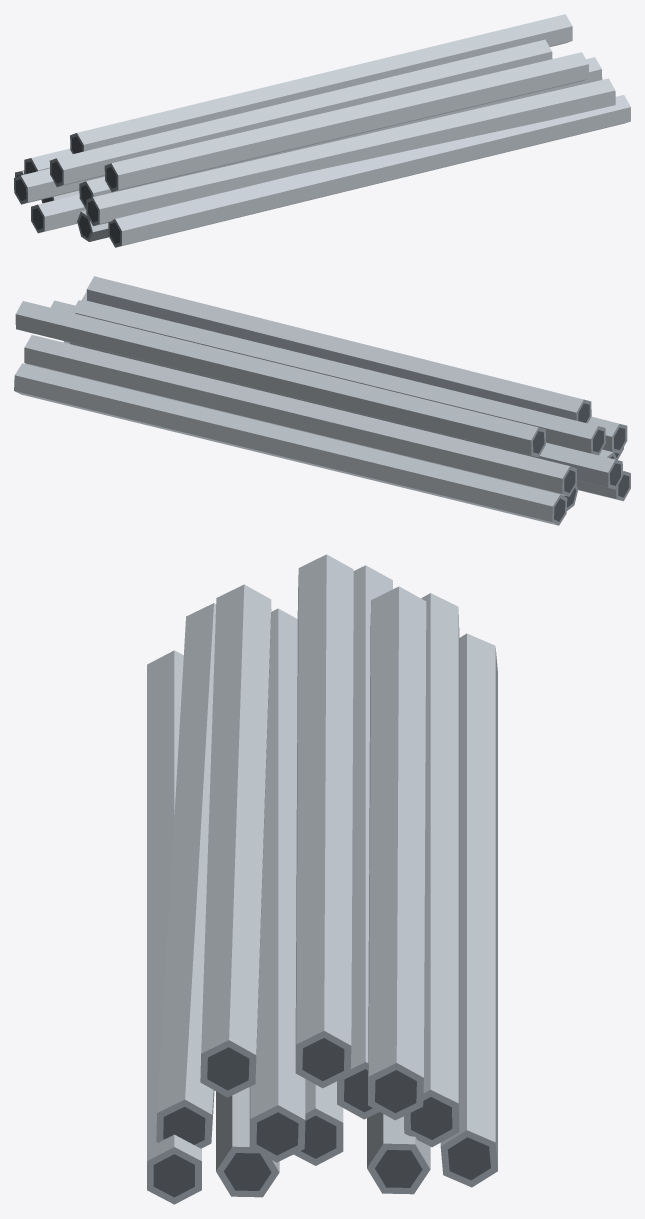
File: SR_Pipe_Stack_01.fbx
3 views of the same model, one above another, from view 1: azimuth 30°, elevation 25°; view 2: azimuth 150°, elevation 25°; view 3: azimuth 270°, elevation 25° (orthographic). The views are drawn at different scales.
Visible parts, largest first — view 1: SR_Pipe_Stack_01; view 2: SR_Pipe_Stack_01; view 3: SR_Pipe_Stack_01.
Part boxes in pixels (x1,y1,x2,y2): SR_Pipe_Stack_01: [14, 14, 630, 247]; SR_Pipe_Stack_01: [14, 276, 630, 525]; SR_Pipe_Stack_01: [147, 554, 497, 1204].
Bounding box in the file's own units: 490 × 60.42 × 134.
